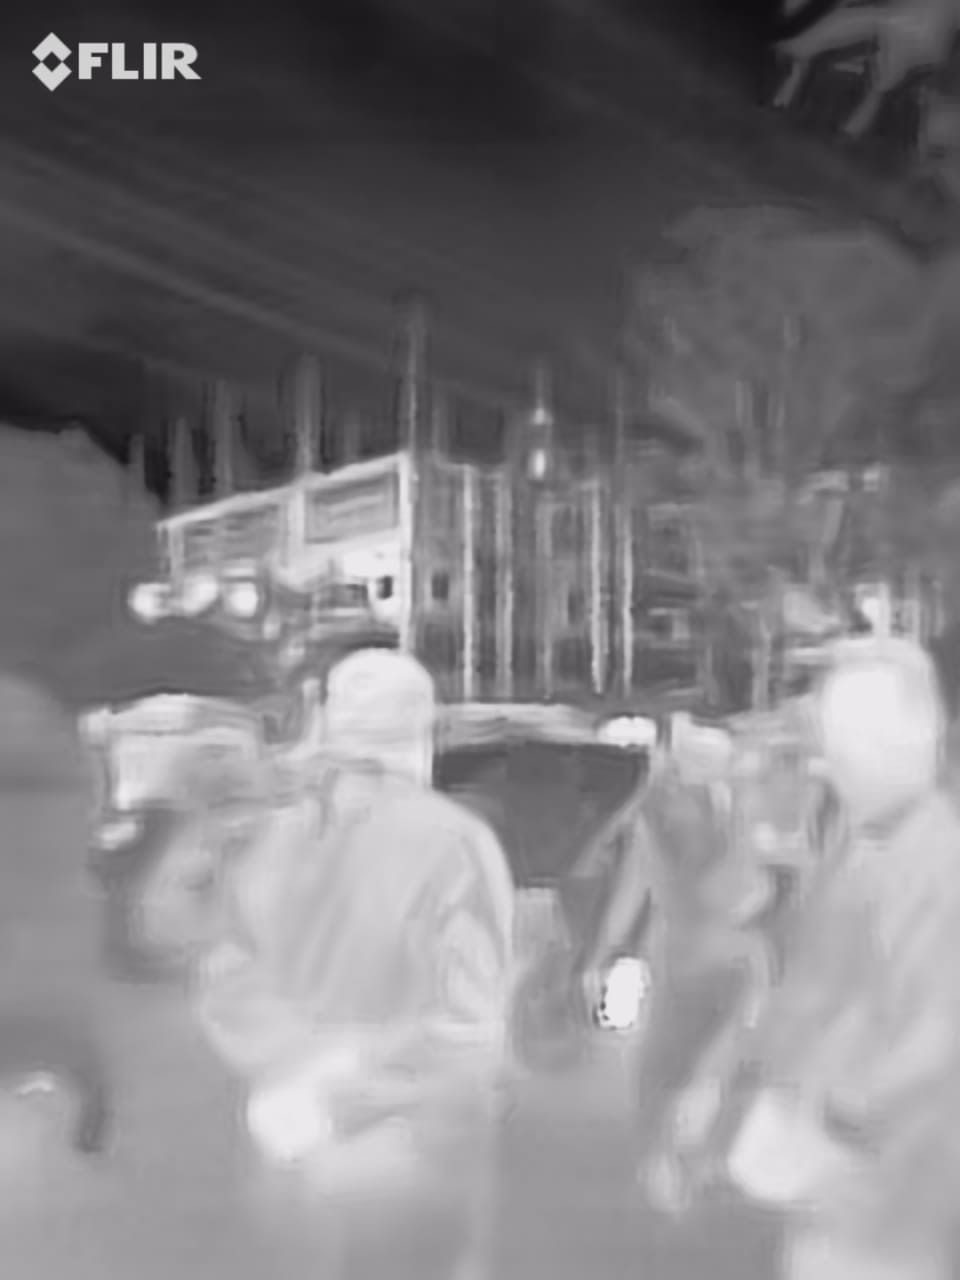head: (318, 637, 475, 799), (815, 638, 944, 815)
